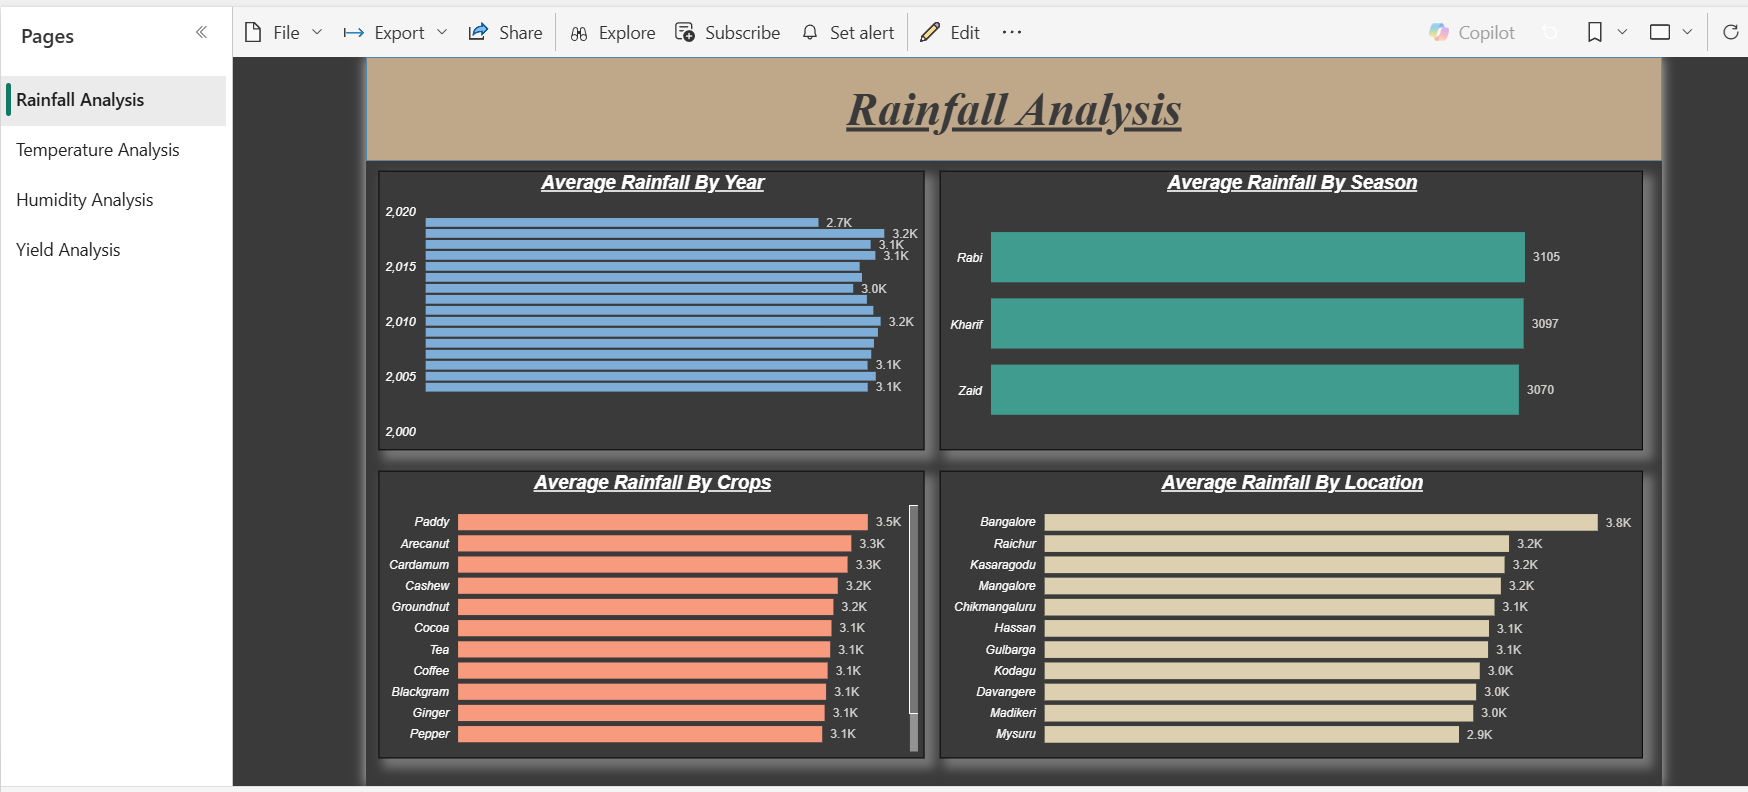

Layout of this report page (visuals, bound fields, positions):
{"tool":"powerbi","page":{"name":"Rainfall Analysis","canvas":[1280,720],"ordinal":0},"visuals":[{"type":"shape","box":[0,0,1280.3,102.7],"z":0},{"type":"barChart","title":"Average Rainfall By Year","fields":{"Y":["Avg(AGRICULTURE.RAINFALL)"],"Category":["AGRICULTURE.YEAR"]},"box":[12.2,112.5,539.3,276.4],"z":1000},{"type":"barChart","title":"Average Rainfall By Season","fields":{"Y":["Avg(AGRICULTURE.RAINFALL)"],"Category":["AGRICULTURE.SEASON"]},"box":[566.2,112.5,694.6,276.4],"z":2000},{"type":"barChart","title":"Average Rainfall By Crops","fields":{"Y":["Avg(AGRICULTURE.RAINFALL)"],"Category":["AGRICULTURE.CROPS"]},"box":[12.2,408.4,539.3,283.7],"z":3000},{"type":"barChart","title":"Average Rainfall By Location","fields":{"Y":["Avg(AGRICULTURE.RAINFALL)"],"Category":["AGRICULTURE.LOCATION"]},"box":[566.2,408.4,694.6,283.7],"z":4000}]}

Visuals, with their boxes on the page's 1280x720 design canvas (x1, y1, x2, y2). These are canvas units, not pixel positions in the 1748x792 screenshot, which may show the page scaled, cropped or inside an application window:
shape: 0/0/1280/103
"Average Rainfall By Year" barChart: 12/112/552/389
"Average Rainfall By Season" barChart: 566/112/1261/389
"Average Rainfall By Crops" barChart: 12/408/552/692
"Average Rainfall By Location" barChart: 566/408/1261/692
